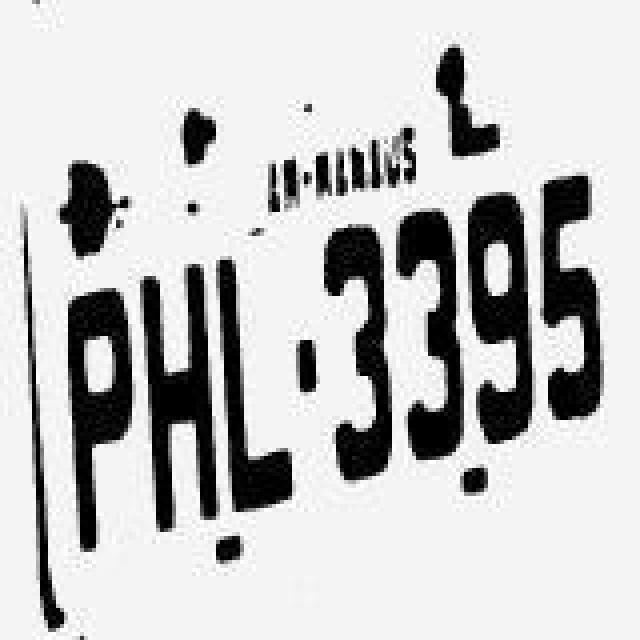3: (390, 198, 474, 466), (318, 218, 394, 486)
5: (536, 160, 624, 464)
9: (464, 174, 544, 458)
H: (134, 244, 218, 532)
L: (214, 252, 298, 516)
P: (50, 280, 134, 584)
